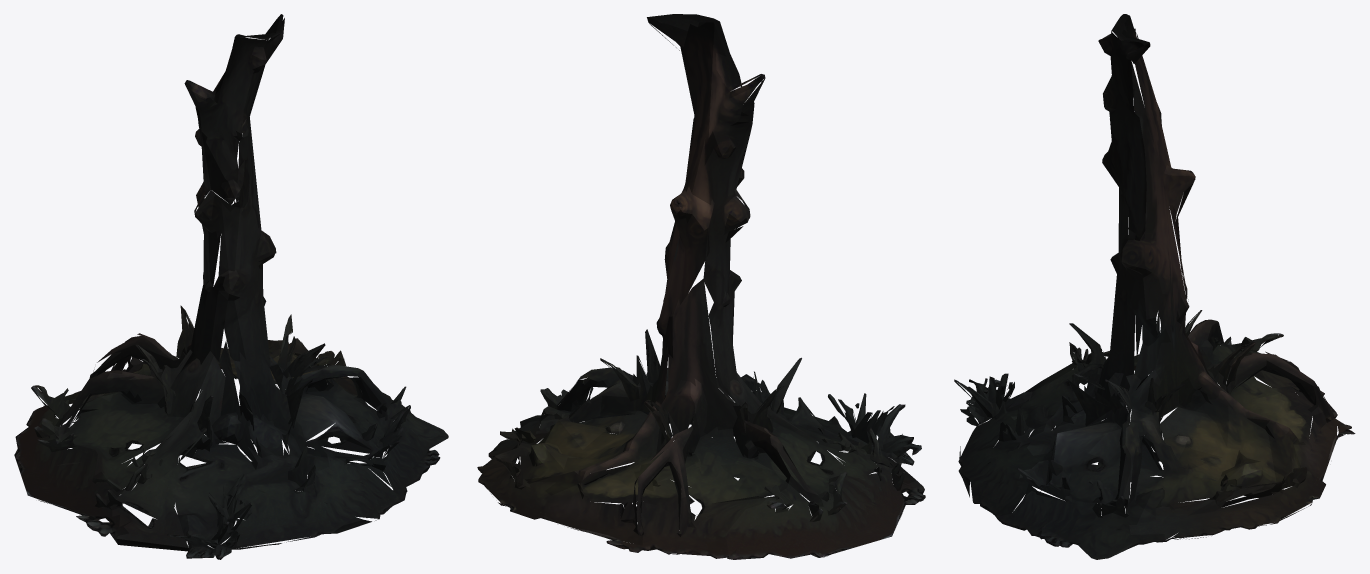
Rendered from tree_1.glb.
3 renders of one model, left to right at view 1: azimuth 30°, elevation 25°; view 2: azimuth 150°, elevation 25°; view 3: azimuth 270°, elevation 25°, orthographic. The views are drawn at different scales.
Visible parts, largest first — view 1: world; view 2: world; view 3: world.
Boxes of the visible parts, left/top/right/bottom form: world: left=14, top=14, right=448, bottom=559; world: left=477, top=14, right=925, bottom=559; world: left=954, top=14, right=1355, bottom=559.
Bounding box in the file's own units: 0.8965 × 0.9937 × 0.7919.
1 material, 1 textured.
